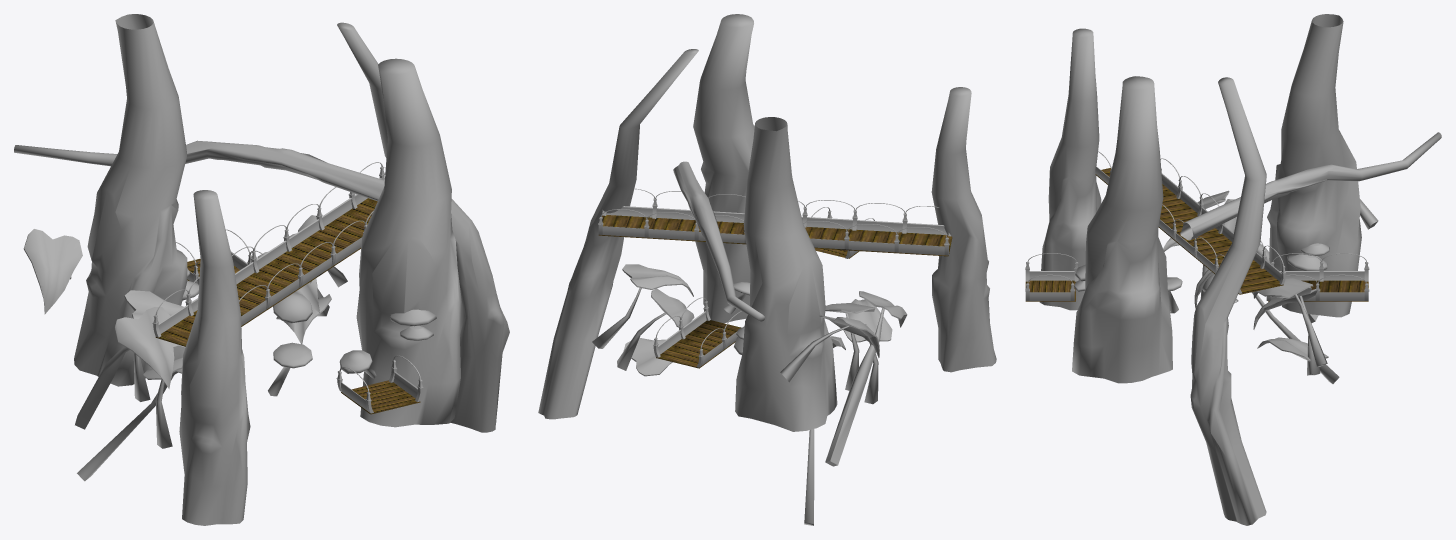
File: fairyland_mush.fbx
3 views of the same model, side by side, from view 1: azimuth 30°, elevation 25°; view 2: azimuth 150°, elevation 25°; view 3: azimuth 270°, elevation 25° (orthographic). The views are drawn at different scales.
Visible parts, largest first — view 1: pCylinder58, pCylinder22, pCylinder59, pCylinder26, pCube151, pCylinder25, pCube427, pCube419, pCube2, pCube422, pCylinder61, pCube423 (+5 smaller); view 2: pCylinder22, pCylinder59, pCylinder58, pCylinder26, pCube151, pCylinder25, pCube2, pCube422, pCube432, pCube431, pCube425, pCube423 (+4 smaller); view 3: pCylinder58, pCylinder22, pCylinder26, pCylinder59, pCylinder25, pCube151, pCube2, pCube432, pCube431, pCube429, pCube433, pCube423 (+1 smaller).
Part boxes in pixels (x1,y1,x2,y2): pCylinder58: [356, 58, 465, 427]; pCylinder22: [74, 14, 187, 386]; pCylinder59: [179, 190, 250, 525]; pCylinder26: [337, 22, 509, 432]; pCube151: [155, 198, 377, 346]; pCylinder25: [14, 140, 384, 201]; pCube427: [23, 229, 82, 314]; pCube419: [115, 307, 174, 388]; pCube2: [187, 258, 420, 414]; pCube422: [75, 346, 129, 429]; pCylinder61: [268, 342, 312, 396]; pCube423: [77, 371, 177, 481]; pCylinder22: [735, 117, 837, 431]; pCylinder59: [931, 87, 996, 372]; pCylinder58: [693, 14, 754, 323]; pCylinder26: [538, 49, 698, 419]; pCube151: [598, 215, 952, 256]; pCylinder25: [673, 161, 764, 321]; pCube2: [656, 248, 859, 368]; pCube422: [825, 308, 884, 466]; pCube432: [622, 264, 693, 296]; pCube431: [623, 338, 672, 376]; pCube425: [843, 299, 892, 342]; pCube423: [804, 429, 814, 525]; pCylinder58: [1072, 76, 1172, 383]; pCylinder22: [1267, 14, 1361, 317]; pCylinder26: [1190, 77, 1266, 525]; pCylinder59: [1039, 28, 1101, 310]; pCylinder25: [1180, 132, 1441, 240]; pCube151: [1095, 168, 1283, 294]; pCube2: [1025, 280, 1368, 301]; pCube432: [1253, 278, 1313, 298]; pCube431: [1257, 337, 1328, 361]; pCube429: [1253, 287, 1317, 329]; pCube433: [1294, 294, 1327, 366]; pCube423: [1251, 292, 1339, 383].
Size of the model in its own units: 4403 by 4505 by 4421.
